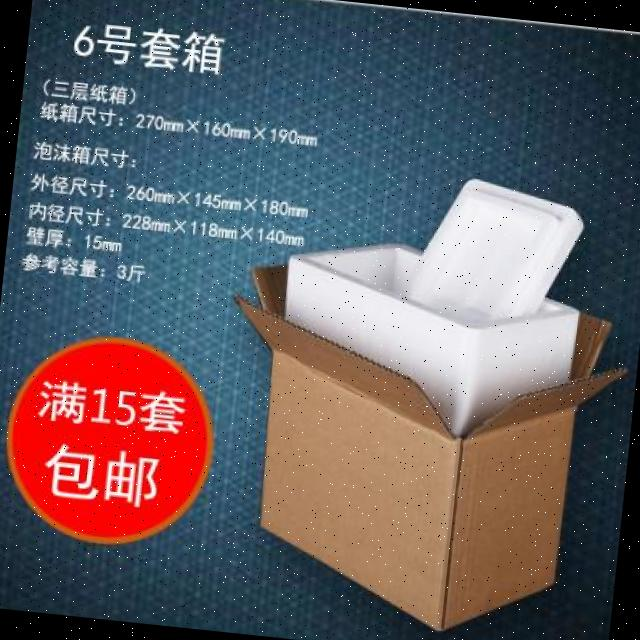styrofoam: (268, 156, 595, 449)
